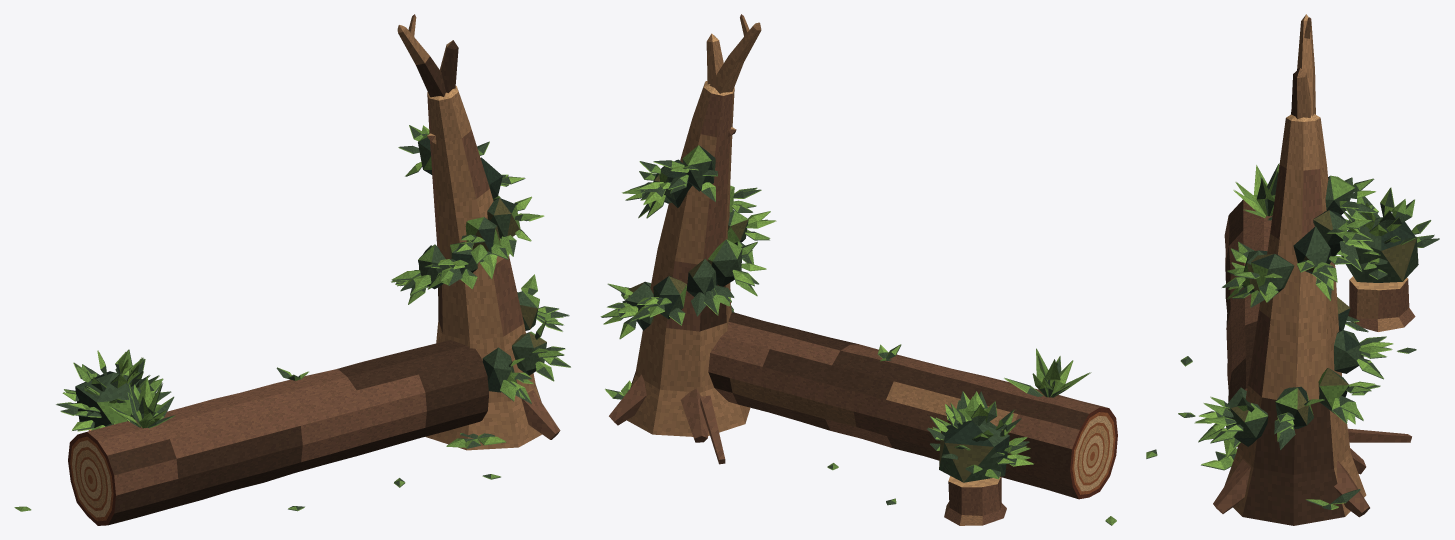
File: tree_fallen.glb
3 views of the same model, side by side, from view 1: azimuth 30°, elevation 25°; view 2: azimuth 150°, elevation 25°; view 3: azimuth 270°, elevation 25° (orthographic). The views are drawn at different scales.
Parts seen in each view (by area): view 1: tree_fallen; view 2: tree_fallen; view 3: tree_fallen.
Part boxes in pixels (left/top/right/bottom): tree_fallen: left=14, top=14, right=570, bottom=525; tree_fallen: left=600, top=14, right=1117, bottom=525; tree_fallen: left=1146, top=14, right=1439, bottom=525.
Size of the model in its own units: 4.09 by 3.12 by 1.86.
Materials: 1 (1 with a texture image).
